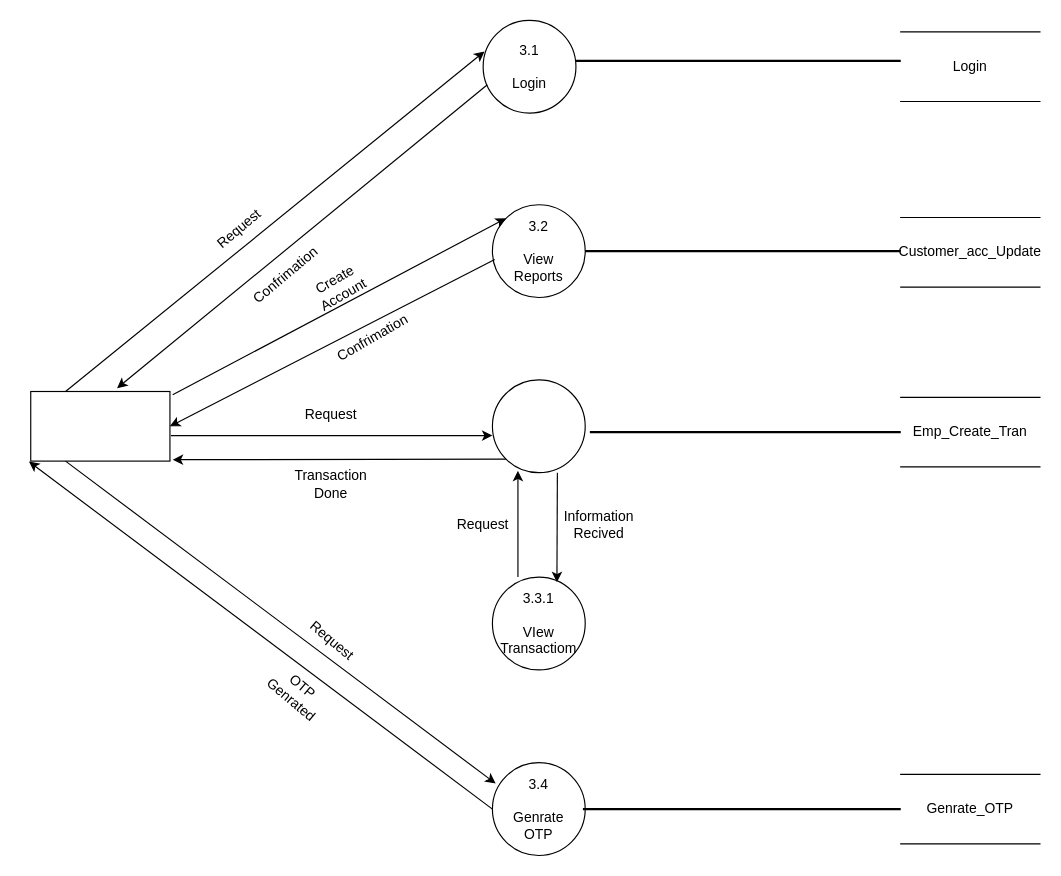
This 1061x876 diagram has some shape labels left out. The shapes that lost their labels are listed below. From the top down, each one's centre as x and y in pixels, then its label:
At [100,425]: "Employee".
At [538,426]: "3.3 Create Transaction".
